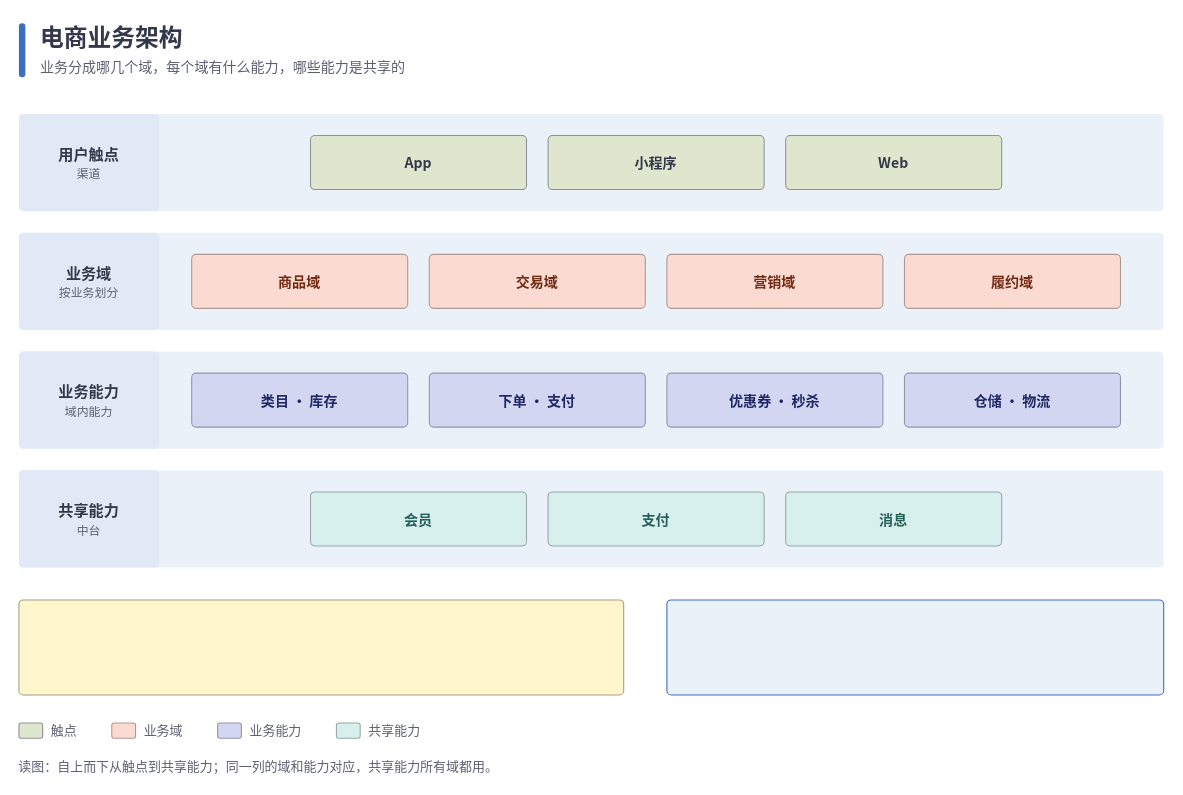
The diagram is 1183 pixels wide and 795 high, and some of its shapes have lost their labels. Here are the shapes that lost their labels. From the top down, the centre of each, then its label:
At point (321, 647): "口径 业务域按交易链路划分，一个域一个负责人 共享能力由中台团队维护，各域复用不重建".
At point (915, 647): "不在这张图里 技术组件与部署 组织架构".
